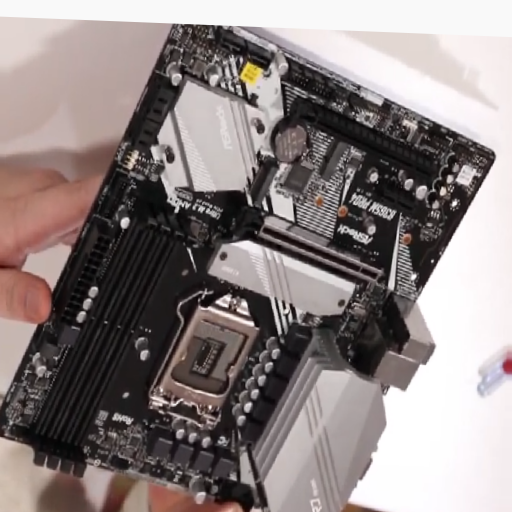CPU: (145, 295, 259, 433)
GPU: (291, 96, 440, 181), (258, 223, 386, 283)
MOTHERBOARD: (1, 22, 498, 512)
RAM: (33, 214, 180, 477)
SSD: (244, 161, 280, 207)
